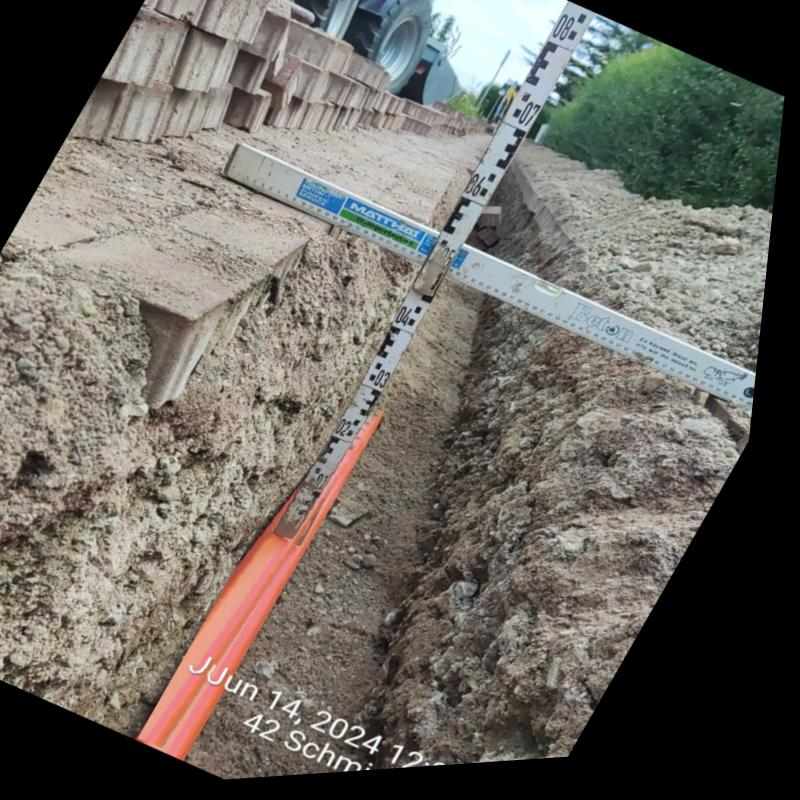Orang-Speednetrohrchen: (153, 414, 394, 754)
